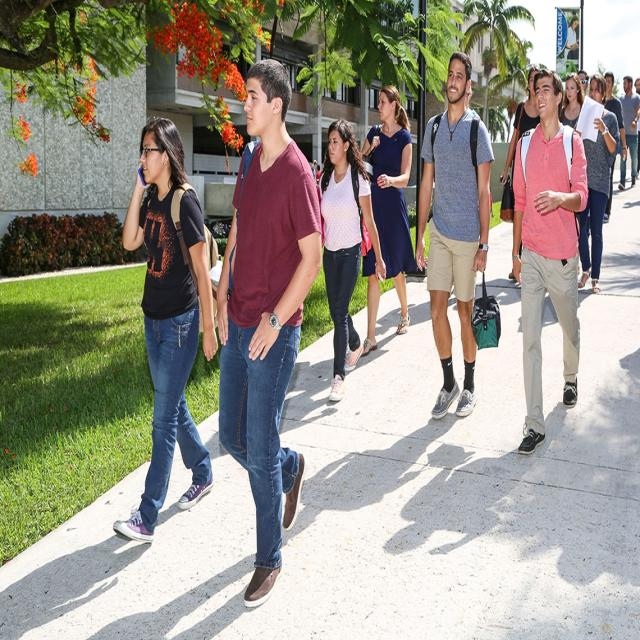body: (282, 277, 591, 567), (210, 53, 328, 613), (0, 431, 256, 638), (110, 111, 223, 548), (412, 46, 505, 424), (508, 67, 591, 458), (318, 116, 388, 404), (355, 81, 420, 354), (498, 63, 542, 281), (576, 74, 618, 297), (603, 71, 628, 224), (617, 75, 640, 191), (558, 71, 584, 129), (565, 15, 581, 58), (634, 78, 640, 181), (576, 71, 590, 95)
